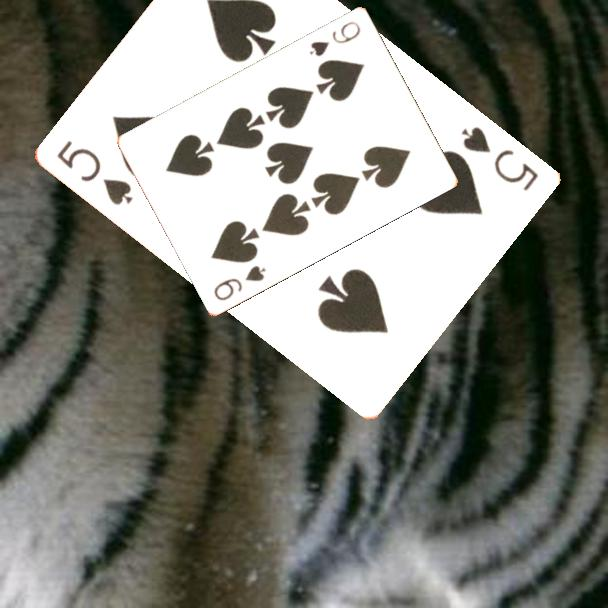s05: (53, 136, 137, 209), (458, 122, 543, 194)
s09: (210, 261, 269, 303), (306, 17, 364, 59)
